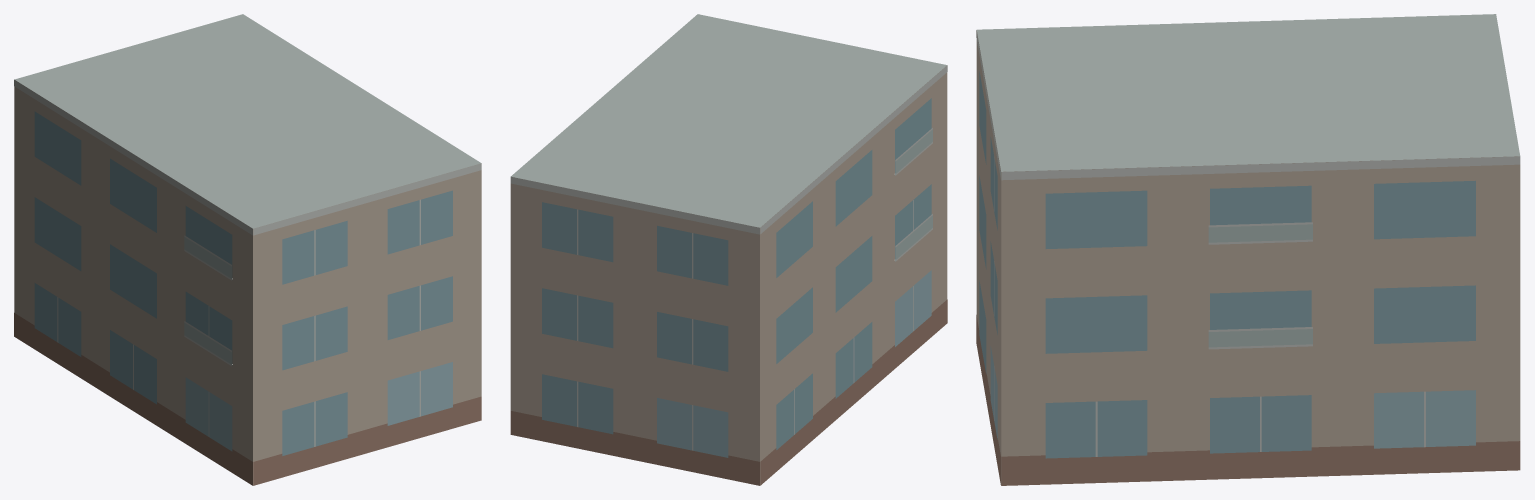
Rendered from survey-upis-32998641.glb.
The picture shows the model from 3 angles, left to right: view 1: azimuth 30°, elevation 25°; view 2: azimuth 150°, elevation 25°; view 3: azimuth 270°, elevation 25°; orthographic projection. The views are drawn at different scales.
Visible parts, largest first — view 1: survey-upis-32998641.tmp; view 2: survey-upis-32998641.tmp; view 3: survey-upis-32998641.tmp.
Boxes of the visible parts, x1,y1,x2,y2 form: survey-upis-32998641.tmp: [14, 14, 481, 485]; survey-upis-32998641.tmp: [510, 14, 947, 485]; survey-upis-32998641.tmp: [976, 14, 1520, 485].
Bounding box in the file's own units: 9.87 × 9.15 × 14.37.
